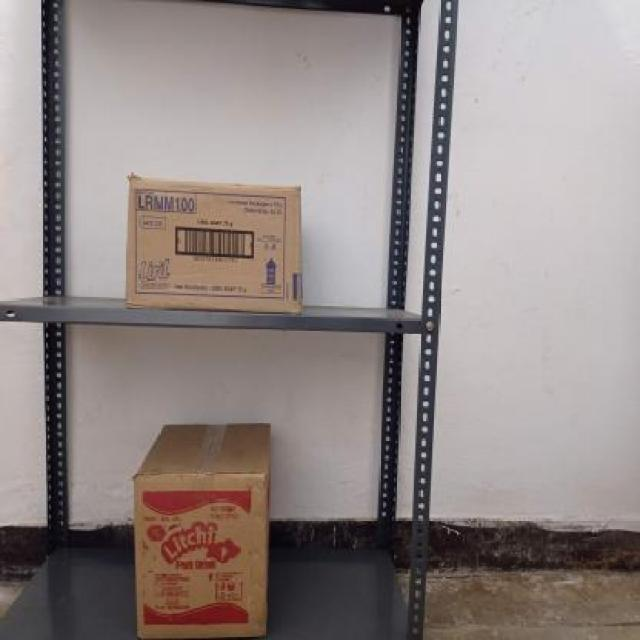box: (125, 175, 302, 314), (133, 473, 267, 639)
